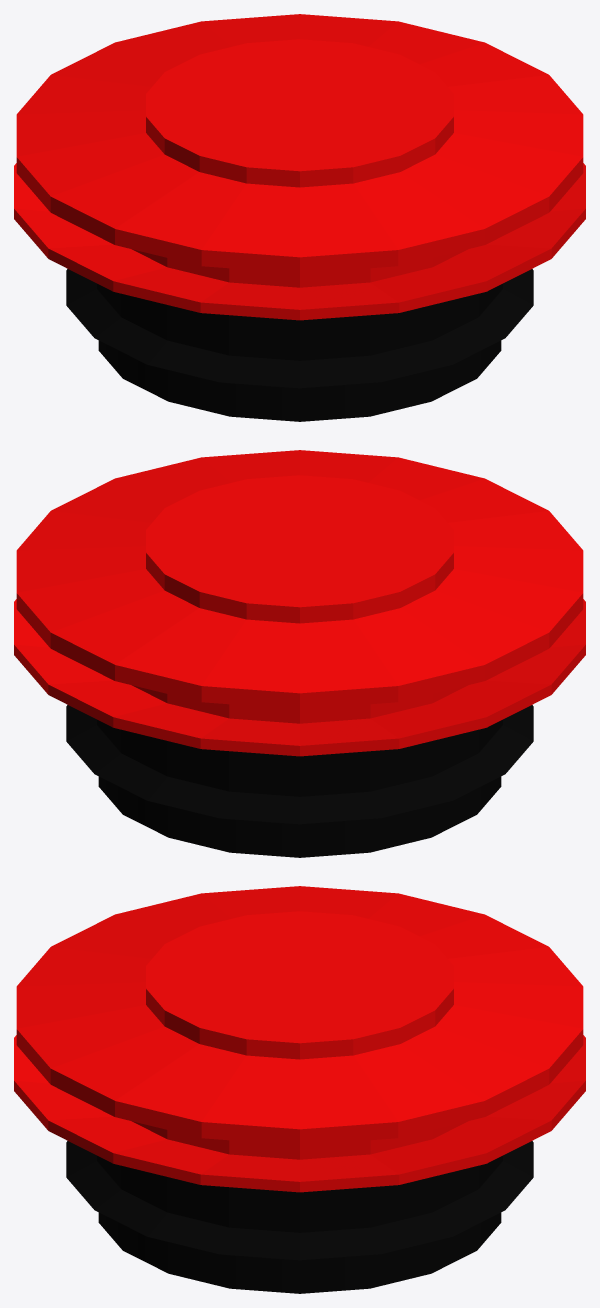
The model's file is bumpertje.FBX.
The picture shows the model from 3 angles, top to bottom: view 1: azimuth 30°, elevation 25°; view 2: azimuth 150°, elevation 25°; view 3: azimuth 270°, elevation 25°; orthographic projection.
Visible parts, largest first — view 1: Cylinder001; view 2: Cylinder001; view 3: Cylinder001.
Part boxes in pixels (<box>): Cylinder001: <box>14,14,585,421</box>; Cylinder001: <box>14,450,585,857</box>; Cylinder001: <box>14,886,585,1293</box>.
Size of the model in its own units: 2.99 by 1.31 by 2.95.
